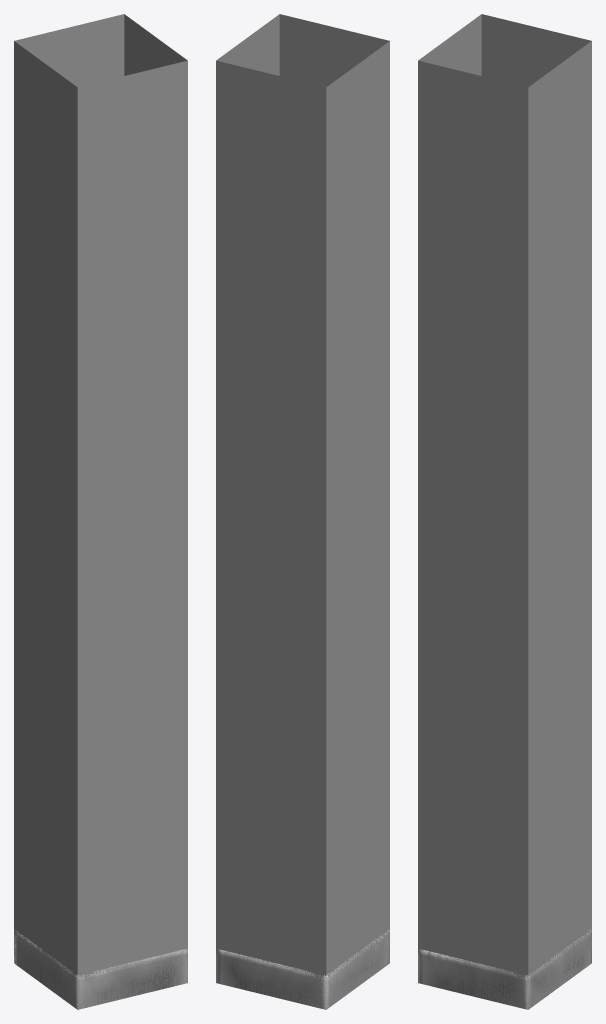
File: stonemonument02.fbx
The picture shows the model from 3 angles, left to right: view 1: azimuth 30°, elevation 25°; view 2: azimuth 150°, elevation 25°; view 3: azimuth 330°, elevation 25°; orthographic projection.
Visible parts, largest first — view 1: col_w, mdl_LOD0, col_o; view 2: col_w, mdl_LOD0, col_o; view 3: col_w, mdl_LOD0, col_o.
Part boxes in pixels (box(x1,y1,x2,y2)): col_w: box(14, 14, 187, 1008); mdl_LOD0: box(14, 929, 187, 1009); col_o: box(14, 930, 187, 1009); col_w: box(216, 14, 389, 1008); mdl_LOD0: box(216, 929, 389, 1009); col_o: box(216, 929, 389, 1009); col_w: box(418, 14, 591, 1008); mdl_LOD0: box(418, 929, 591, 1009); col_o: box(418, 929, 591, 1009).
Size of what is drawn, in the model's own units: 100 by 800 by 100.
